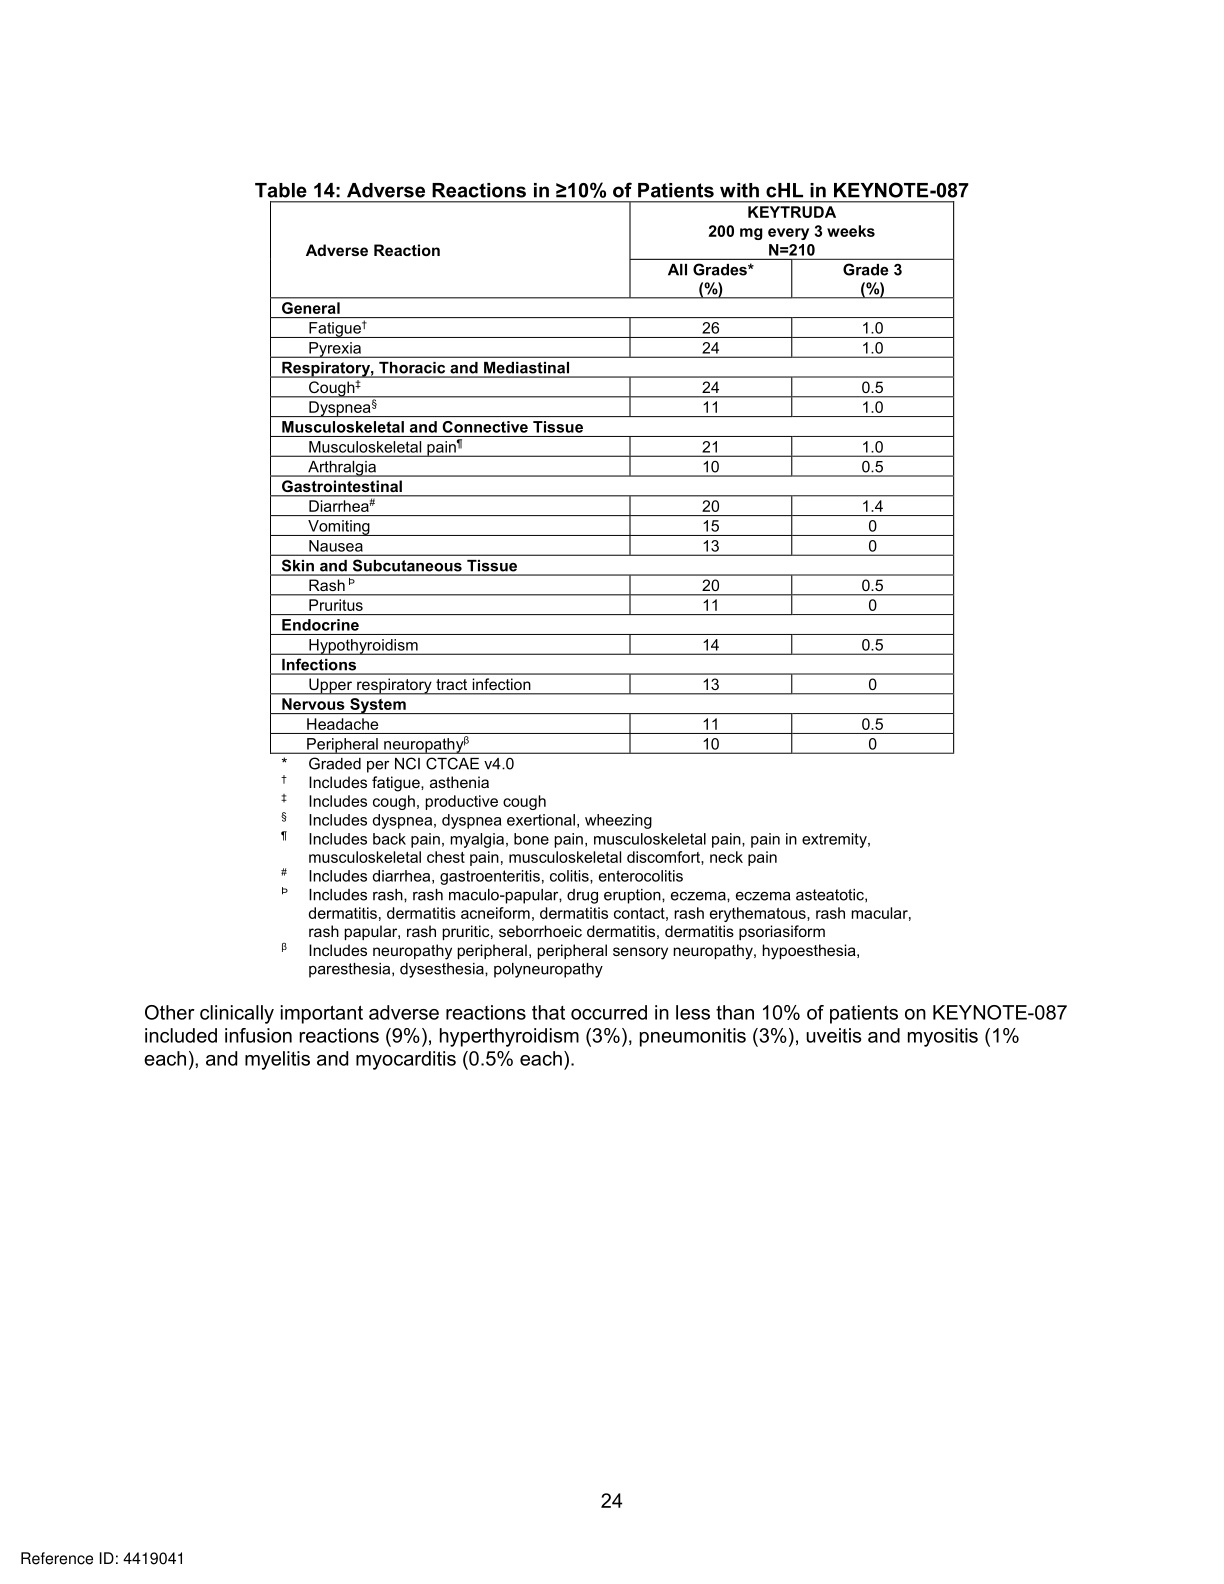merged_cells: (267, 198, 957, 755)
